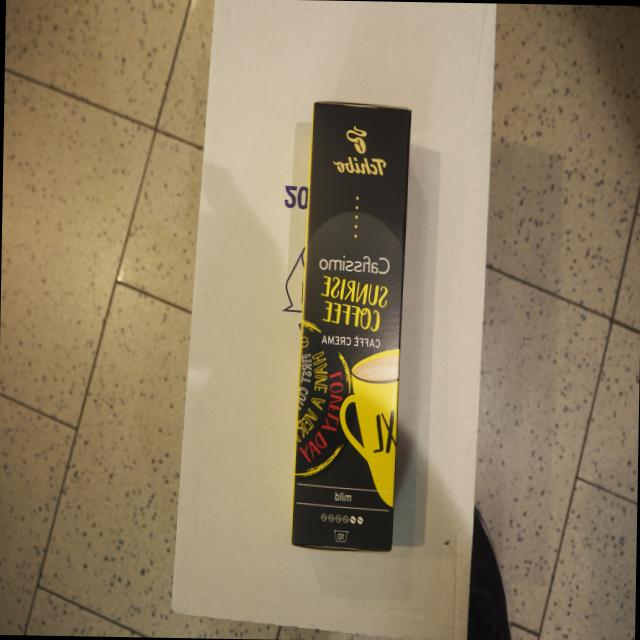Simo Sunrise: (288, 94, 412, 552)
